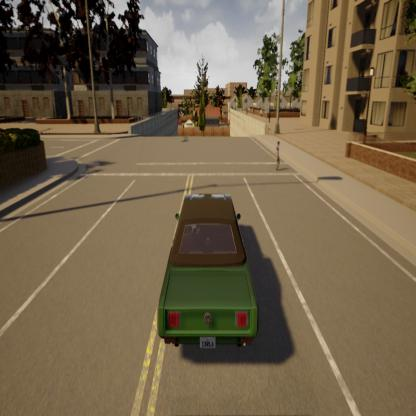Cars: (146, 180, 280, 365)
Pedestrian: (271, 134, 285, 177)
